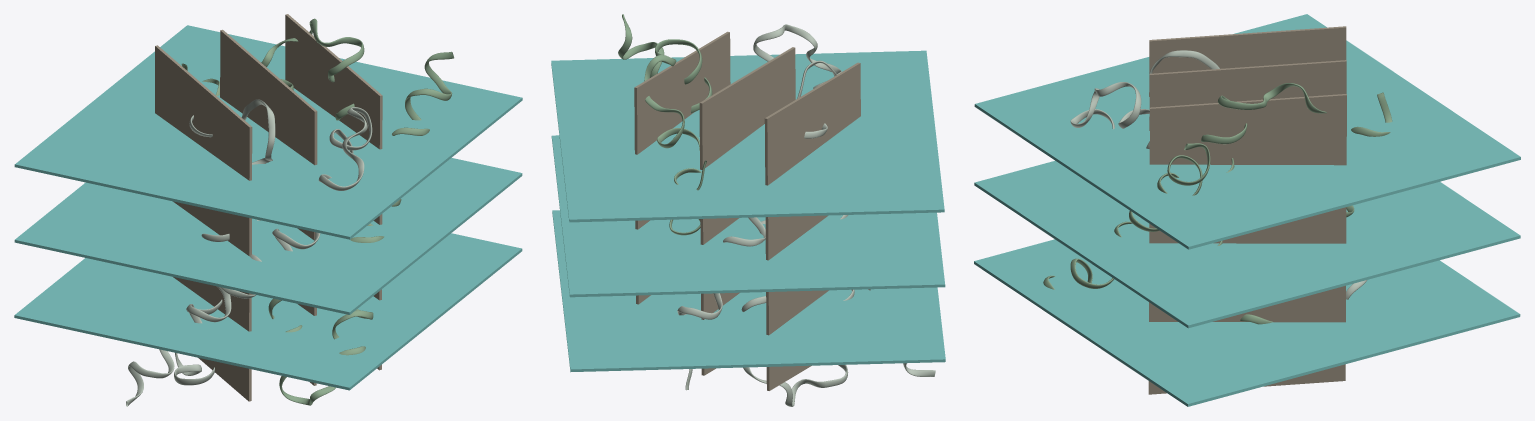
The model's file is Planes.glb.
The picture shows the model from 3 angles, left to right: view 1: azimuth 30°, elevation 25°; view 2: azimuth 150°, elevation 25°; view 3: azimuth 270°, elevation 25°; orthographic projection. The views are drawn at different scales.
Parts seen in each view (by area): view 1: newplanes; view 2: newplanes; view 3: newplanes.
Boxes of the visible parts, x1,y1,x2,y2 form: newplanes: (14, 14, 522, 406); newplanes: (551, 14, 945, 406); newplanes: (974, 14, 1520, 406).
Size of the model in its own units: 3.46 by 2.35 by 3.46.
